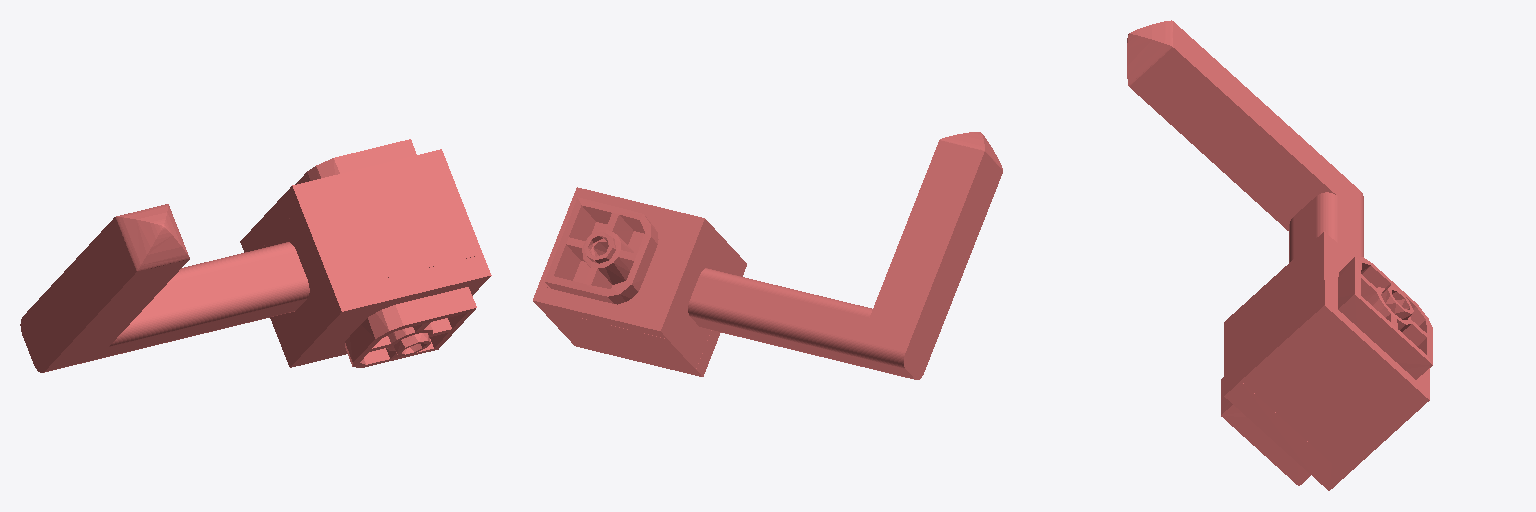
robot.urdf — panda:
<?xml version="1.0" ?>
<!-- =================================================================================== -->
<!-- |    This document was autogenerated by xacro from panda_arm_hand.urdf.xacro      | -->
<!-- |    EDITING THIS FILE BY HAND IS NOT RECOMMENDED                                 | -->
<!-- =================================================================================== -->
<robot name="panda" xmlns:xacro="http://www.ros.org/wiki/xacro">
  <link name="panda_link0">
    <visual>
      <geometry>
        <mesh filename="package://franka_description/meshes/visual/link0.dae"/>
      </geometry>
      <material name="panda_white"/>
    </visual>
    <collision>
      <geometry>
        <mesh filename="package://franka_description/meshes/collision/link0.stl"/>
      </geometry>
    </collision>
  </link>
  <link name="panda_link1">
    <visual>
      <geometry>
        <mesh filename="package://franka_description/meshes/visual/link1.dae"/>
      </geometry>
      <material name="panda_white"/>
    </visual>
    <collision>
      <geometry>
        <mesh filename="package://franka_description/meshes/collision/link1.stl"/>
      </geometry>
    </collision>
  </link>
  <joint name="panda_joint1" type="revolute">
    <safety_controller k_position="100.0" k_velocity="40.0" soft_lower_limit="-2.8973" soft_upper_limit="2.8973"/>
    <origin rpy="0 0 0" xyz="0 0 0.333"/>
    <parent link="panda_link0"/>
    <child link="panda_link1"/>
    <axis xyz="0 0 1"/>
    <dynamics friction="10.0"/>
    <limit effort="87" lower="-2.8973" upper="2.8973" velocity="2.1750"/>
  </joint>
  <link name="panda_link2">
    <visual>
      <geometry>
        <mesh filename="package://franka_description/meshes/visual/link2.dae"/>
      </geometry>
      <material name="panda_white"/>
    </visual>
    <collision>
      <geometry>
        <mesh filename="package://franka_description/meshes/collision/link2.stl"/>
      </geometry>
    </collision>
  </link>
  <joint name="panda_joint2" type="revolute">
    <safety_controller k_position="100.0" k_velocity="40.0" soft_lower_limit="-1.7628" soft_upper_limit="1.7628"/>
    <origin rpy="-1.57079632679 0 0" xyz="0 0 0"/>
    <parent link="panda_link1"/>
    <child link="panda_link2"/>
    <axis xyz="0 0 1"/>
    <dynamics friction="10.0"/>
    <limit effort="87" lower="-1.7628" upper="1.7628" velocity="2.1750"/>
  </joint>
  <link name="panda_link3">
    <visual>
      <geometry>
        <mesh filename="package://franka_description/meshes/visual/link3.dae"/>
      </geometry>
      <material name="panda_white"/>
    </visual>
    <collision>
      <geometry>
        <mesh filename="package://franka_description/meshes/collision/link3.stl"/>
      </geometry>
    </collision>
  </link>
  <joint name="panda_joint3" type="revolute">
    <safety_controller k_position="100.0" k_velocity="40.0" soft_lower_limit="-2.8973" soft_upper_limit="2.8973"/>
    <origin rpy="1.57079632679 0 0" xyz="0 -0.316 0"/>
    <parent link="panda_link2"/>
    <child link="panda_link3"/>
    <axis xyz="0 0 1"/>
    <dynamics friction="10.0"/>
    <limit effort="87" lower="-2.8973" upper="2.8973" velocity="2.1750"/>
  </joint>
  <link name="panda_link4">
    <visual>
      <geometry>
        <mesh filename="package://franka_description/meshes/visual/link4.dae"/>
      </geometry>
      <material name="panda_white"/>
    </visual>
    <collision>
      <geometry>
        <mesh filename="package://franka_description/meshes/collision/link4.stl"/>
      </geometry>
    </collision>
  </link>
  <joint name="panda_joint4" type="revolute">
    <safety_controller k_position="100.0" k_velocity="40.0" soft_lower_limit="-3.0718" soft_upper_limit="-0.0698"/>
    <origin rpy="1.57079632679 0 0" xyz="0.0825 0 0"/>
    <parent link="panda_link3"/>
    <child link="panda_link4"/>
    <axis xyz="0 0 1"/>
    <dynamics friction="10.0"/>
    <limit effort="87" lower="-3.0718" upper="-0.0698" velocity="2.1750"/>
  </joint>
  <link name="panda_link5">
    <visual>
      <geometry>
        <mesh filename="package://franka_description/meshes/visual/link5.dae"/>
      </geometry>
      <material name="panda_white"/>
    </visual>
    <collision>
      <geometry>
        <mesh filename="package://franka_description/meshes/collision/link5.stl"/>
      </geometry>
    </collision>
  </link>
  <joint name="panda_joint5" type="revolute">
    <safety_controller k_position="100.0" k_velocity="40.0" soft_lower_limit="-2.8973" soft_upper_limit="2.8973"/>
    <origin rpy="-1.57079632679 0 0" xyz="-0.0825 0.384 0"/>
    <parent link="panda_link4"/>
    <child link="panda_link5"/>
    <axis xyz="0 0 1"/>
    <dynamics friction="10.0"/>
    <limit effort="12" lower="-2.8973" upper="2.8973" velocity="2.6100"/>
  </joint>
  <link name="panda_link6">
    <visual>
      <geometry>
        <mesh filename="package://franka_description/meshes/visual/link6.dae"/>
      </geometry>
      <material name="panda_white"/>
    </visual>
    <collision>
      <geometry>
        <mesh filename="package://franka_description/meshes/collision/link6.stl"/>
      </geometry>
    </collision>
  </link>
  <joint name="panda_joint6" type="revolute">
    <safety_controller k_position="100.0" k_velocity="40.0" soft_lower_limit="-0.0175" soft_upper_limit="3.7525"/>
    <origin rpy="1.57079632679 0 0" xyz="0 0 0"/>
    <parent link="panda_link5"/>
    <child link="panda_link6"/>
    <axis xyz="0 0 1"/>
    <dynamics friction="10.0"/>
    <limit effort="12" lower="-0.0175" upper="3.7525" velocity="2.6100"/>
  </joint>
  <link name="panda_link7">
    <visual>
      <geometry>
        <mesh filename="package://franka_description/meshes/visual/link7.dae"/>
      </geometry>
      <material name="panda_white"/>
    </visual>
    <collision>
      <geometry>
        <mesh filename="package://franka_description/meshes/collision/link7.stl"/>
      </geometry>
    </collision>
  </link>
  <joint name="panda_joint7" type="revolute">
    <safety_controller k_position="100.0" k_velocity="40.0" soft_lower_limit="-2.8973" soft_upper_limit="2.8973"/>
    <origin rpy="1.57079632679 0 0" xyz="0.088 0 0"/>
    <parent link="panda_link6"/>
    <child link="panda_link7"/>
    <axis xyz="0 0 1"/>
    <dynamics friction="10.0"/>
    <limit effort="12" lower="-2.8973" upper="2.8973" velocity="2.6100"/>
  </joint>
  <link name="panda_link8"/>
  <joint name="panda_joint8" type="fixed">
    <origin rpy="0 0 0" xyz="0 0 0.107"/>
    <parent link="panda_link7"/>
    <child link="panda_link8"/>
    <axis xyz="0 0 0"/>
  </joint>
  <joint name="panda_hand_joint" type="fixed">
    <parent link="panda_link8"/>
    <child link="panda_hand"/>
    <origin rpy="0 0 -0.785398163397" xyz="0 0 0"/>
  </joint>
  <link name="panda_hand">
    <visual>
      <geometry>
        <mesh filename="package://franka_description/meshes/visual/hand.dae"/>
      </geometry>
      <material name="panda_white"/>
    </visual>
    <collision>
      <geometry>
        <mesh filename="package://franka_description/meshes/collision/hand.stl"/>
      </geometry>
    </collision>
  </link>
  <link name="panda_leftfinger">
    <visual>
      <geometry>
        <mesh filename="package://franka_description/meshes/visual/finger.dae"/>
      </geometry>
      <material name="panda_grey"/>
    </visual>
    <collision>
      <geometry>
        <mesh filename="package://franka_description/meshes/collision/finger.stl"/>
      </geometry>
    </collision>
  </link>
  <link name="panda_rightfinger">
    <visual>
      <origin rpy="0 0 3.14159265359" xyz="0 0 0"/>
      <geometry>
        <mesh filename="package://franka_description/meshes/visual/finger.dae"/>
      </geometry>
      <material name="panda_grey"/>
    </visual>
    <collision>
      <origin rpy="0 0 3.14159265359" xyz="0 0 0"/>
      <geometry>
        <mesh filename="package://franka_description/meshes/collision/finger.stl"/>
      </geometry>
    </collision>
  </link>
  <joint name="panda_finger_joint1" type="prismatic">
    <parent link="panda_hand"/>
    <child link="panda_leftfinger"/>
    <origin rpy="0 0 0" xyz="0 0 0.0584"/>
    <axis xyz="0 1 0"/>
    <limit effort="20" lower="0.0" upper="0.04" velocity="0.2"/>
  </joint>
  <joint name="panda_finger_joint2" type="prismatic">
    <parent link="panda_hand"/>
    <child link="panda_rightfinger"/>
    <origin rpy="0 0 0" xyz="0 0 0.0584"/>
    <axis xyz="0 -1 0"/>
    <limit effort="20" lower="0.0" upper="0.04" velocity="0.2"/>
    <mimic joint="panda_finger_joint1"/>
  </joint>
  <link name="tool_link"/>
  <joint name="tool_joint" type="fixed">
    <origin rpy="0 0 2.35619449019" xyz="0.0 0 0.1"/>
    <axis xyz="0 0 1"/>
    <parent link="panda_link8"/>
    <child link="tool_link"/>
  </joint>
  <material name="panda_white">
    <color rgba="1. 1. 1. 1."/>
  </material>
  <material name="panda_grey">
    <color rgba="0.5 0.5 0.5 1."/>
  </material>
  <material name="panda_red">
    <color rgba="0.9 0.5 0.5 1."/>
  </material>
  
  <link name="sticktool">
    <visual>
      <origin rpy="0 0 0" xyz="0 0 0"/>
      <geometry>
        <mesh filename="package://franka_description/meshes/visual/sticktool.stl"/>
      </geometry>
      <material name="panda_red"/>
    </visual>
    <collision>
      <origin rpy="0 0 0" xyz="0 0 0"/>
      <geometry>
        <mesh filename="package://franka_description/meshes/collision/sticktool.stl"/>
      </geometry>
    </collision>
  </link>
  <joint name="panda_finger_stick" type="fixed">
    <parent link="panda_hand"/>
    <child link="sticktool"/>
    <origin rpy="1.5707963267948966 0 0" xyz="0 0 0.1"/>
    <axis xyz="1 0 0"/>
    <limit effort="20" lower="0.0" upper="0.04" velocity="0.2"/>
  </joint>
</robot>

--- Render facts (derived) ---
The picture shows the robot from 3 angles, left to right: view 1: azimuth 30°, elevation 25°; view 2: azimuth 150°, elevation 25°; view 3: azimuth 270°, elevation 25°; orthographic projection.
Robot: panda — 14 links, 13 joints (7 revolute, 2 prismatic, 4 fixed); root link panda_link0; default pose: joints at zero except 1 at the middle of their limits (panda_joint4 = -1.57).
Visible links, largest first — view 1: sticktool; view 2: sticktool; view 3: sticktool.
Link boxes in pixels (left/top/right/bottom): sticktool: left=20, top=139, right=491, bottom=372; sticktool: left=533, top=132, right=1002, bottom=379; sticktool: left=1127, top=20, right=1432, bottom=490.
Bounding box of the posed robot: 0.0755 × 0.0493 × 0.0493 m (x, y, z).
Meshes: 11 distinct files referenced, 1 mesh visuals loaded (1 binary STL); not drawn: 11 (reference not matched to a file when rendering).